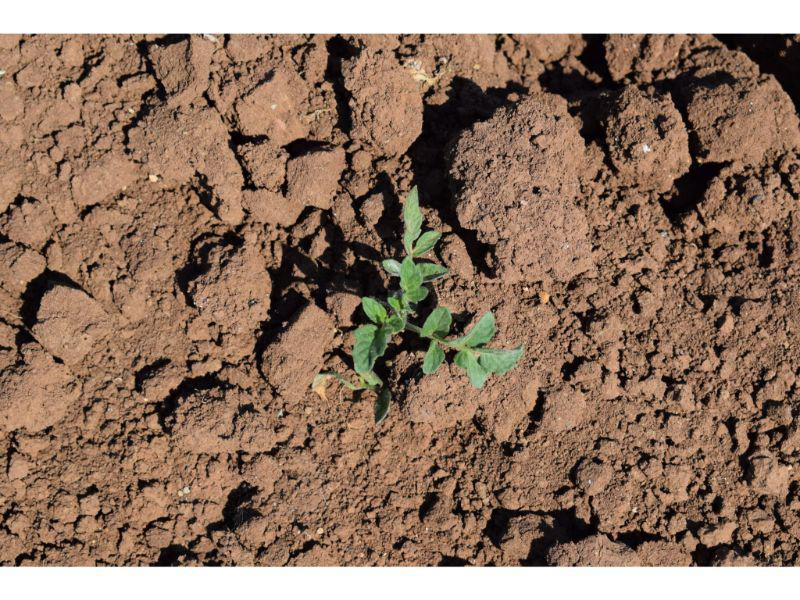tomato: (353, 182, 524, 393)
